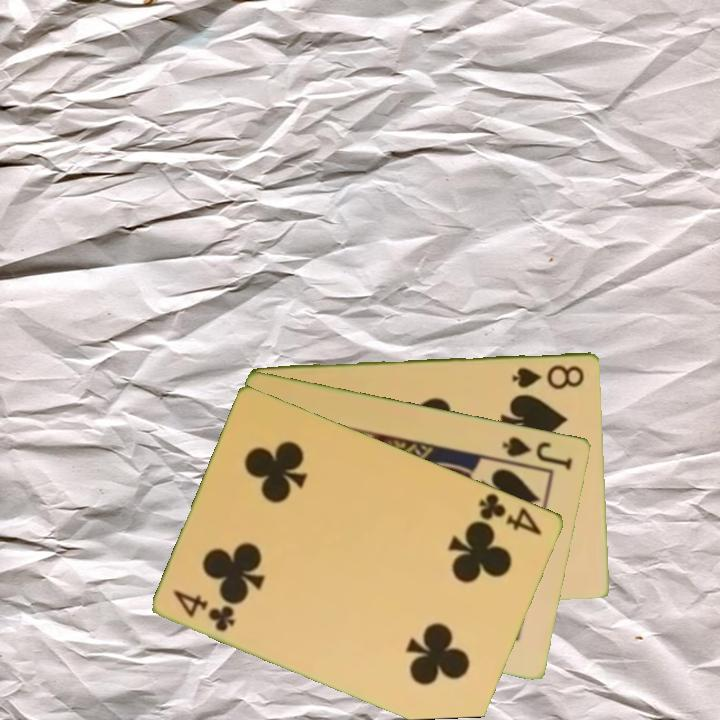4c: (475, 489, 546, 538), (170, 586, 239, 635)
8s: (509, 360, 587, 391)
Js: (499, 432, 576, 473)
